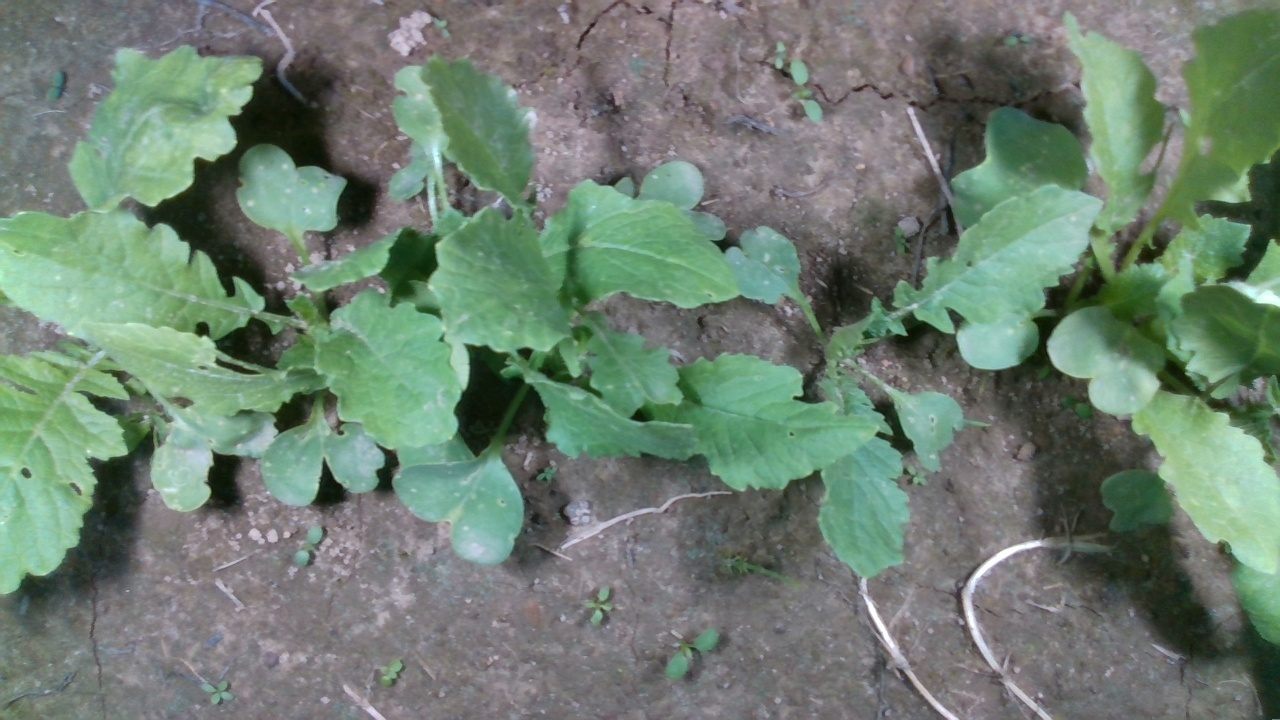weed: (662, 627, 721, 685), (790, 56, 825, 124), (582, 581, 614, 627), (292, 522, 324, 567), (374, 656, 405, 690), (199, 679, 236, 707), (43, 66, 68, 104), (430, 14, 450, 42), (771, 38, 788, 70)
